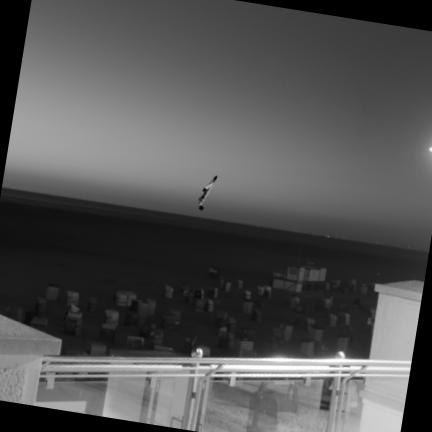Shahed: (198, 176, 217, 210)
